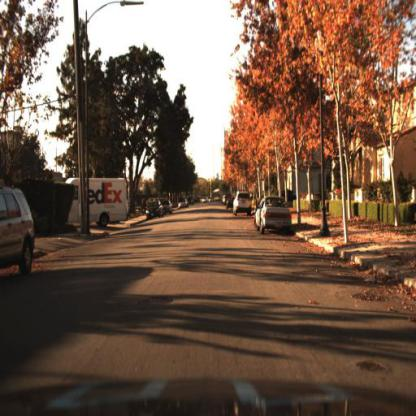car: (61, 175, 131, 231), (252, 194, 295, 239), (230, 189, 255, 220), (145, 198, 165, 224), (161, 194, 176, 219)
truck: (55, 166, 131, 233)
